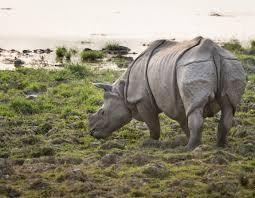Rhinoceroses: (89, 36, 244, 149)
